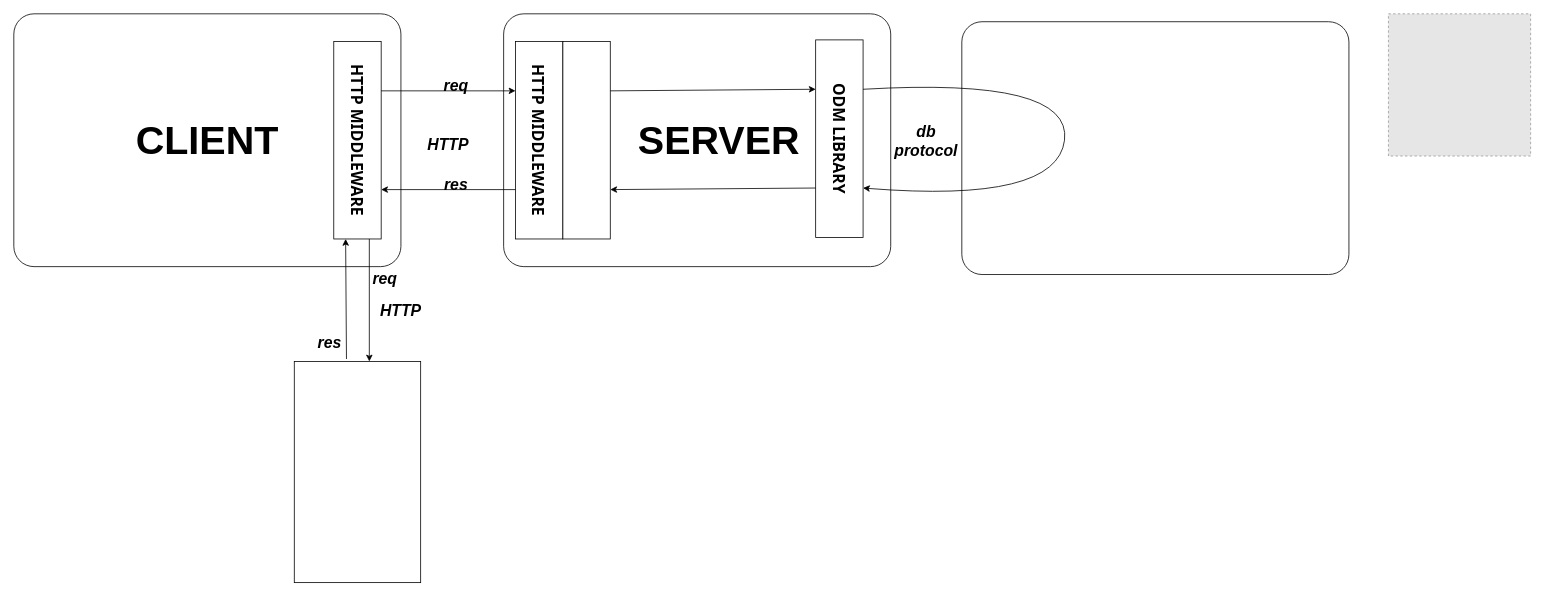
Image size: 1544x596. Some labels were removed from this diagram. Grey dashed boxes stand in for pictures. Here are the shapes that lost their labels. From the top down, the centre of each, then its label:
At pixel 586 140: "RESTful API".
At pixel 1155 148: "DATABASE".
At pixel 357 472: "EXTERNAL API".
